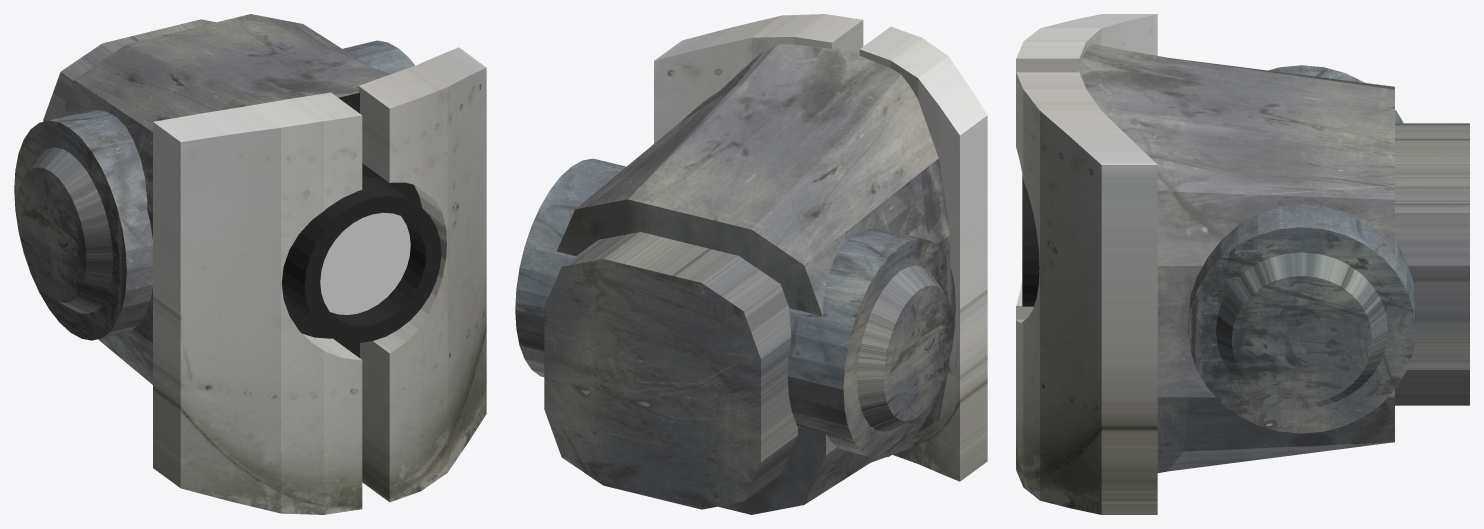
File: Robot 5 head.fbx
3 views of the same model, side by side, from view 1: azimuth 30°, elevation 25°; view 2: azimuth 150°, elevation 25°; view 3: azimuth 270°, elevation 25° (orthographic).
Visible parts, largest first — view 1: Cube.005; view 2: Cube.005; view 3: Cube.005.
Boxes of the visible parts, box(x1,y1,x2,y2) form: Cube.005: box(14, 14, 486, 514); Cube.005: box(515, 14, 987, 514); Cube.005: box(1016, 14, 1469, 514).
Size of the model in its own units: 173 by 178 by 184.
